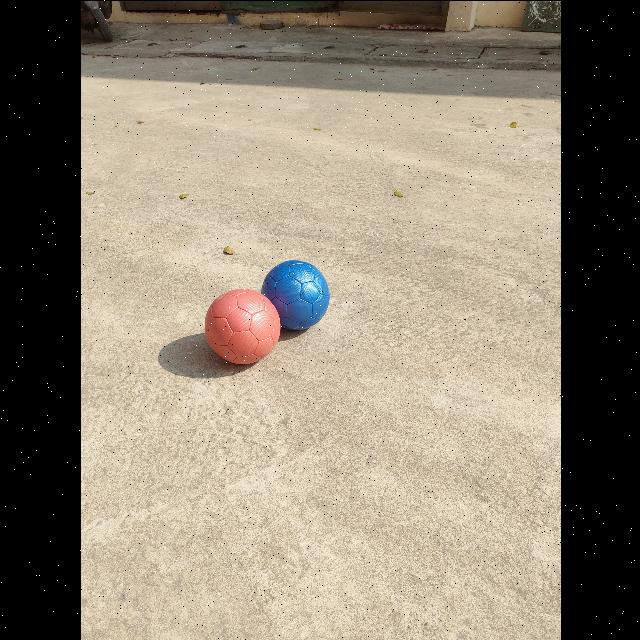B: (260, 259, 329, 329)
R: (204, 288, 280, 364)
